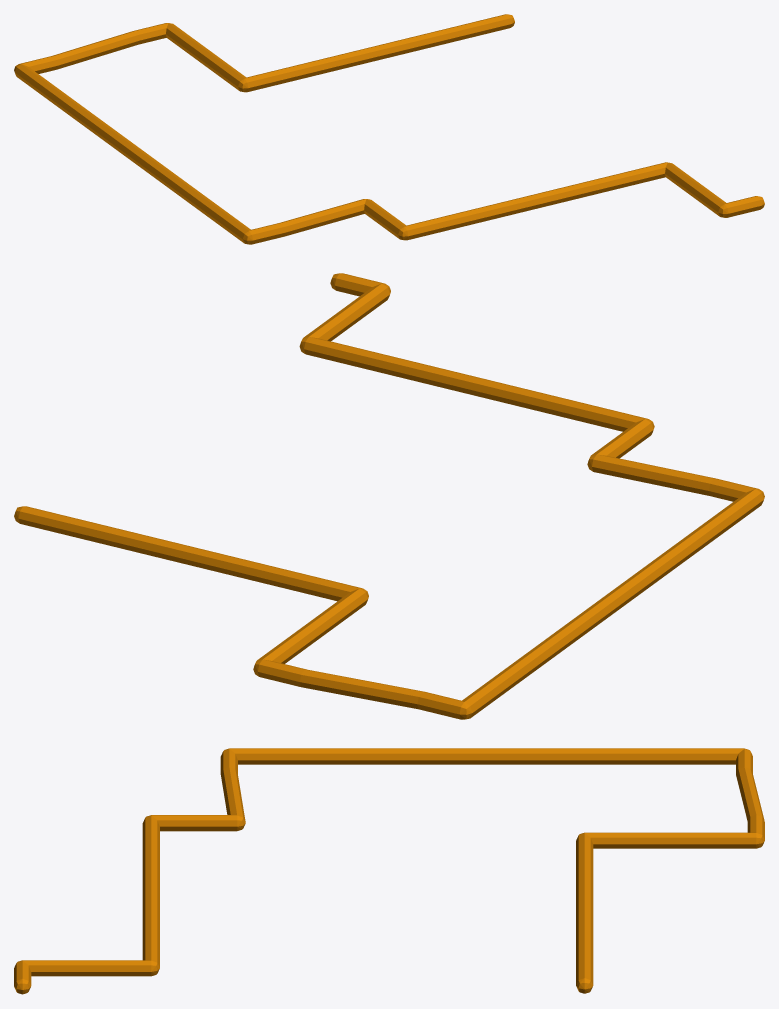
3 views of the same model, one above another, from view 1: azimuth 30°, elevation 25°; view 2: azimuth 150°, elevation 25°; view 3: azimuth 270°, elevation 25° (orthographic). The views are drawn at different scales.
Size of the model in its own units: 654 by 20 by 875.
